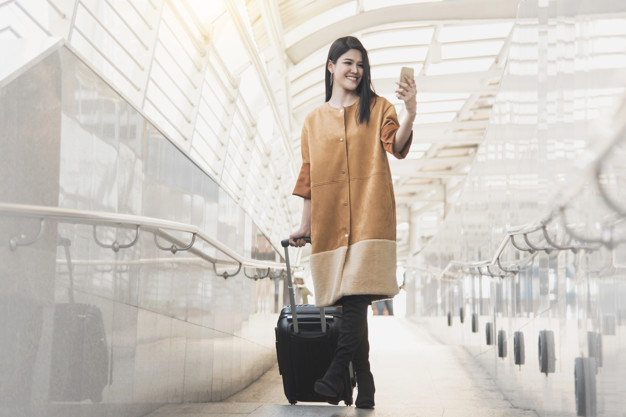luggage: (272, 236, 353, 405)
mobile phone: (399, 65, 417, 95)
